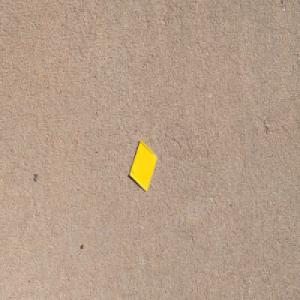PlasticPart: (128, 139, 157, 192)
